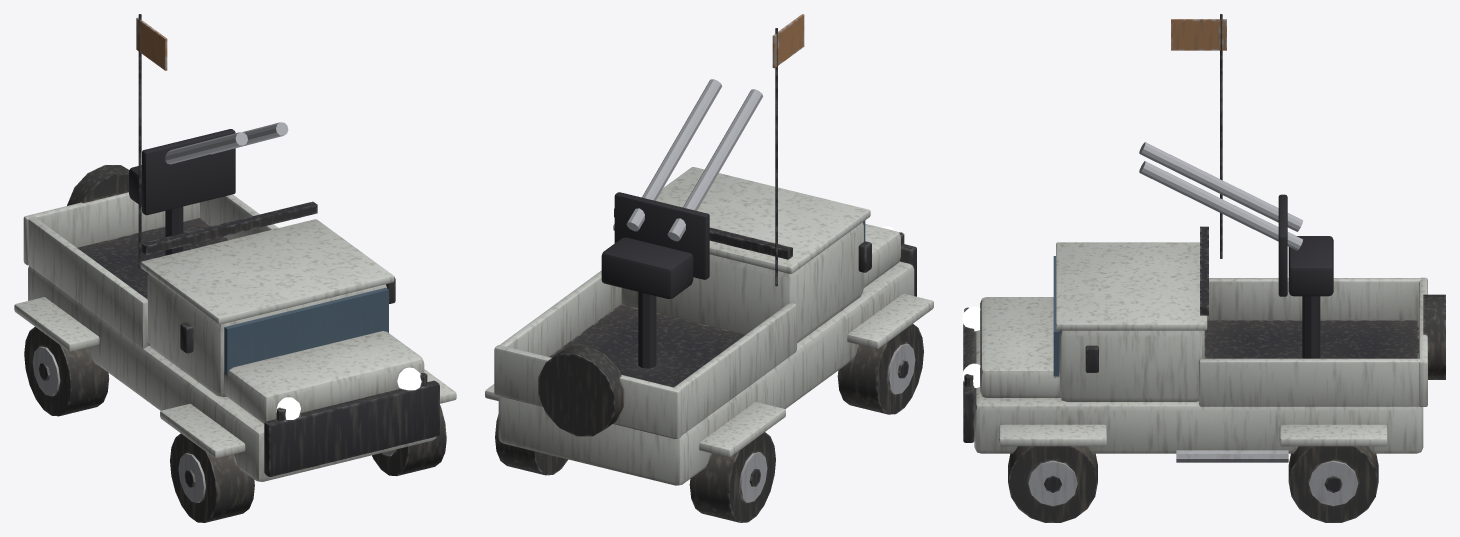
Rendered from technical_aa.glb.
3 views of the same model, side by side, from view 1: azimuth 30°, elevation 25°; view 2: azimuth 150°, elevation 25°; view 3: azimuth 270°, elevation 25° (orthographic). The views are drawn at different scales.
Visible parts, largest first — view 1: Hull, Turret, Barrel; view 2: Hull, Turret, Barrel; view 3: Hull, Turret, Barrel.
Boxes of the visible parts, x1,y1,x2,y2 form: Hull: [14, 14, 456, 522]; Turret: [129, 129, 235, 255]; Barrel: [165, 122, 288, 164]; Hull: [485, 14, 933, 522]; Turret: [601, 192, 709, 368]; Barrel: [626, 79, 762, 241]; Hull: [962, 14, 1445, 522]; Turret: [1278, 194, 1333, 358]; Barrel: [1139, 142, 1302, 250].
Size of the model in its own units: 2.4 by 4.09 by 4.31.
9 materials, 7 textured.
